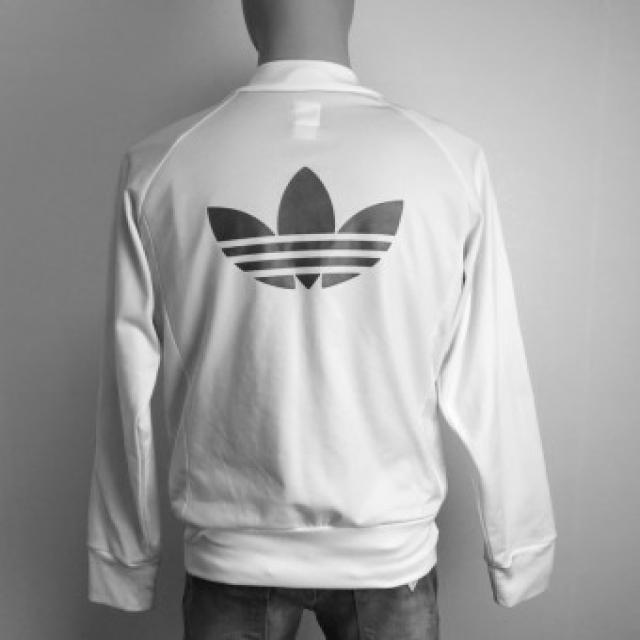Adidas: (198, 158, 412, 298)
